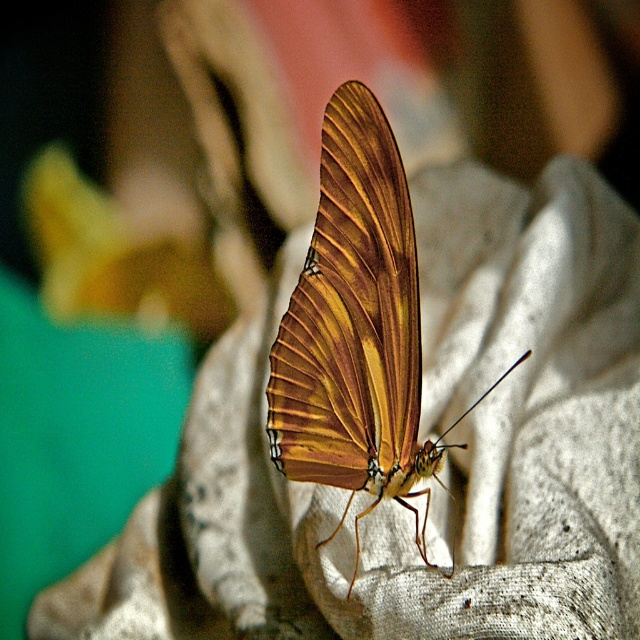Butterfly: (254, 65, 530, 614)
